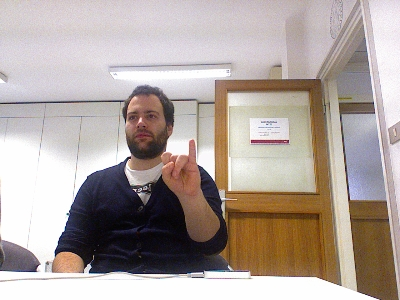小指: (158, 137, 202, 198)
